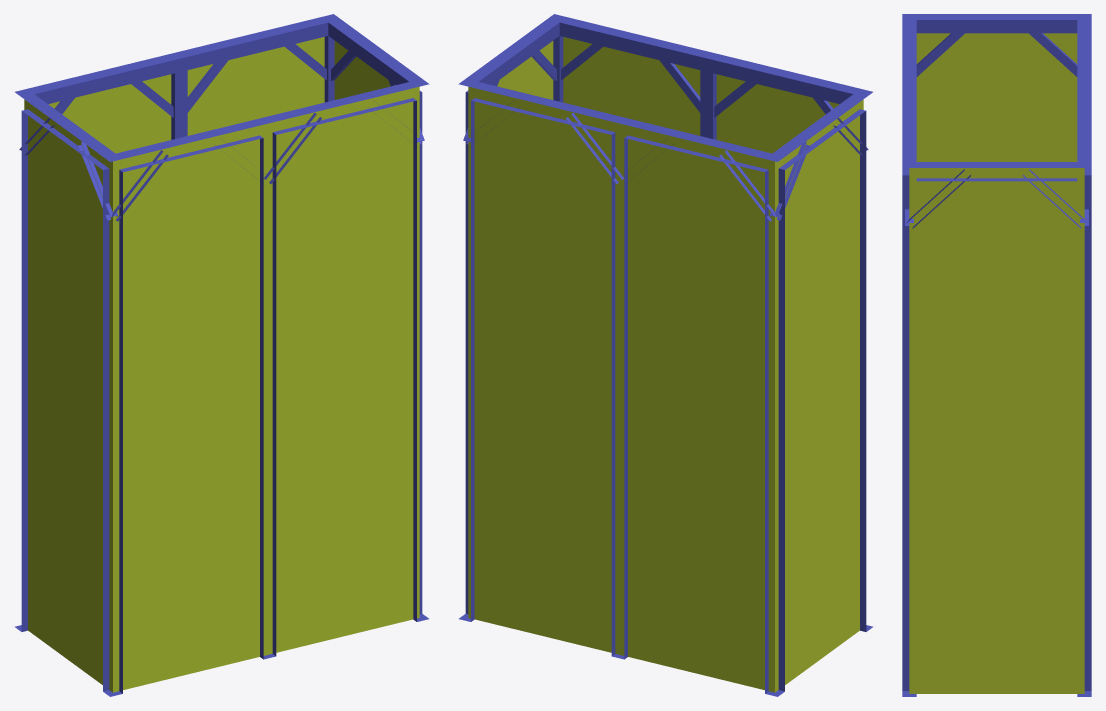
File: Pit_2x1.FBX
3 renders of one model, left to right at view 1: azimuth 30°, elevation 25°; view 2: azimuth 150°, elevation 25°; view 3: azimuth 270°, elevation 25°, orthographic.
Parts seen in each view (by area): view 1: Pit_2x1; view 2: Pit_2x1; view 3: Pit_2x1.
Part boxes in pixels (x1=…): Pit_2x1: x1=14, y1=14, x2=429, y2=696; Pit_2x1: x1=458, y1=14, x2=873, y2=696; Pit_2x1: x1=902, y1=14, x2=1091, y2=696.
Bounding box in the file's own units: 12.5 × 20 × 6.5.
